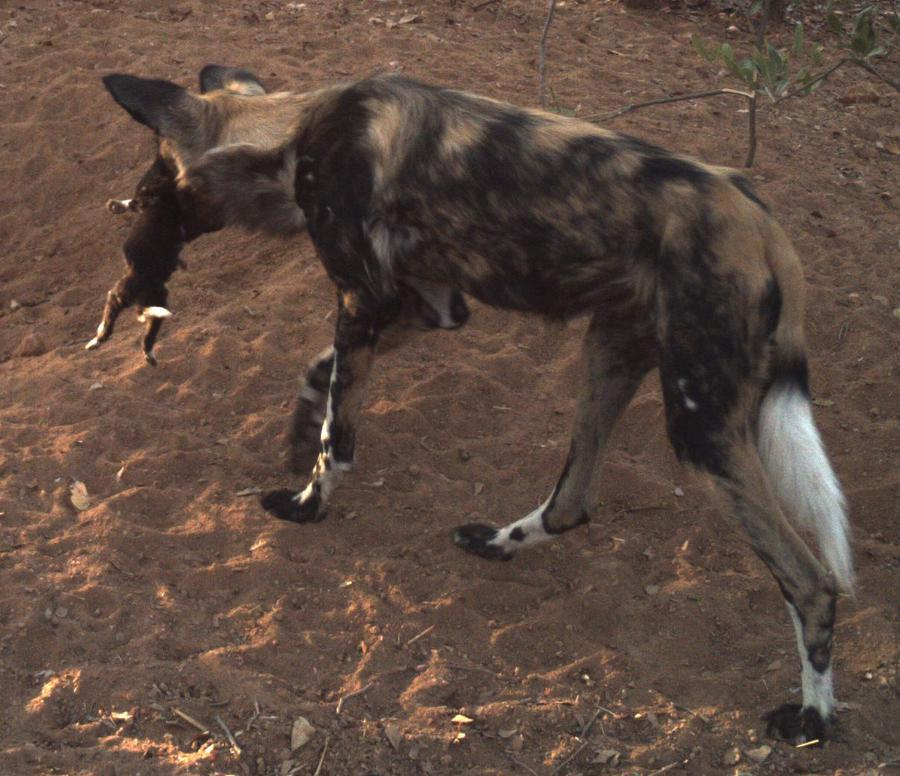wilddog: (102, 57, 815, 601)
